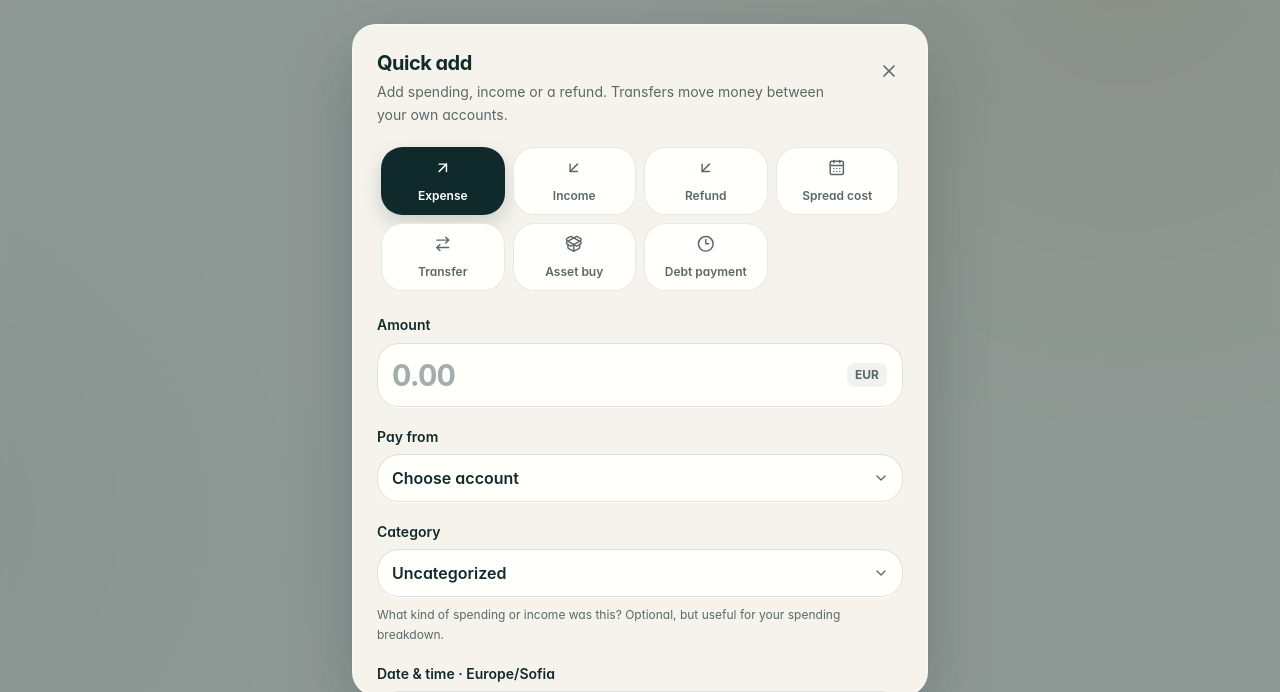
Test: quick entry › reveals the income destination workflow
Click the radio button labelled "Income": coordinates (574, 181) left=512, top=147, right=636, bottom=215
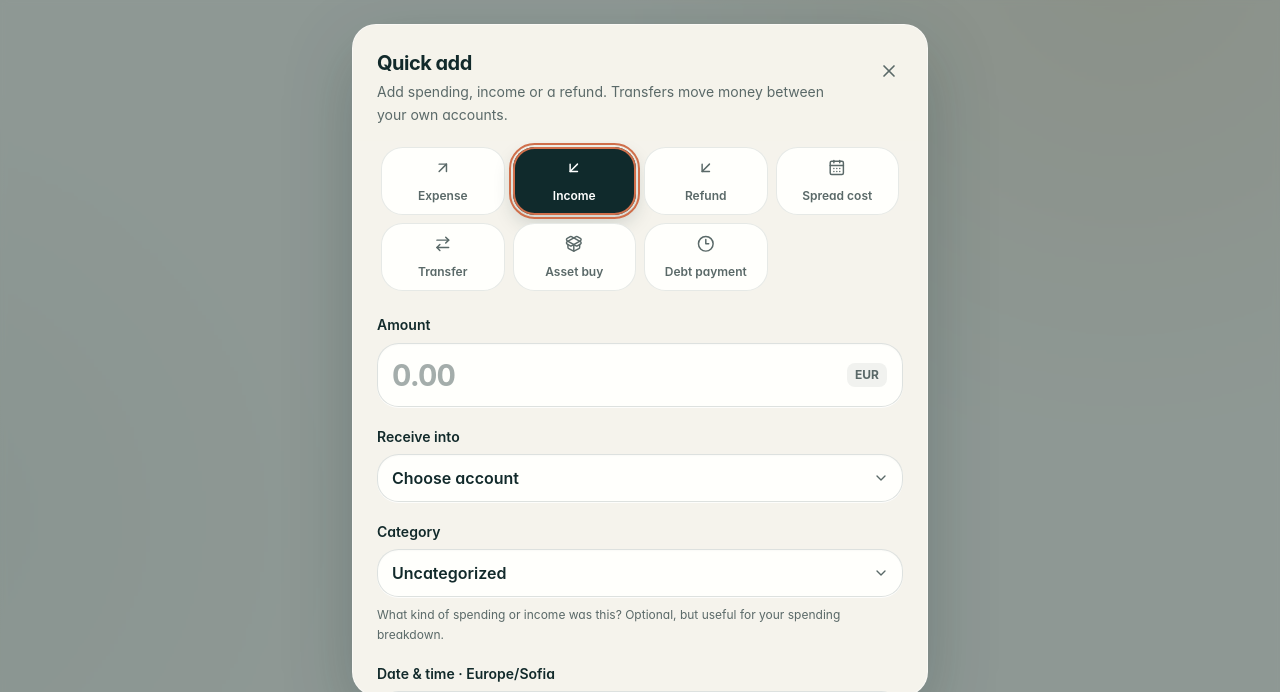
Expected: the dropdown labelled "Receive into" is shown, left=377, top=454, right=903, bottom=502
Now the text labelled "Pay from" is gone
